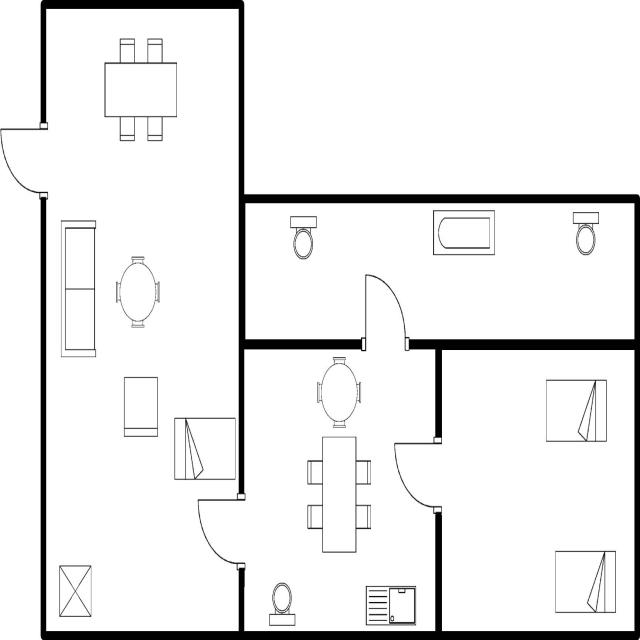bed: (550, 546, 620, 618), (543, 374, 609, 448), (172, 412, 238, 484)
coffee_table: (55, 560, 95, 622)
dining_table: (302, 433, 375, 559), (100, 31, 180, 145)
large_sink: (569, 206, 603, 262), (286, 208, 321, 262), (266, 578, 298, 628)
large_sofa: (56, 212, 100, 364)
round_table: (312, 351, 366, 433), (111, 249, 164, 332)
sink: (362, 581, 418, 629)
small_sofa: (119, 372, 162, 444)
tub: (429, 206, 497, 262)
